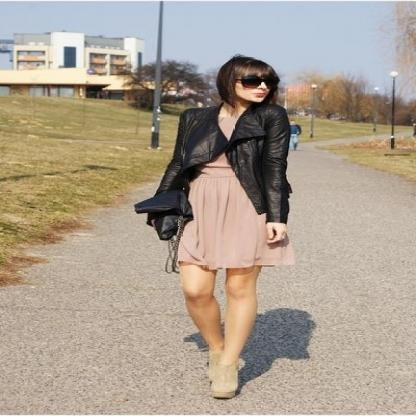bag: (134, 180, 192, 259)
dress: (177, 125, 288, 283)
jacket: (162, 92, 301, 223)
shoe: (190, 365, 260, 402)
sunglass: (245, 62, 279, 91)
